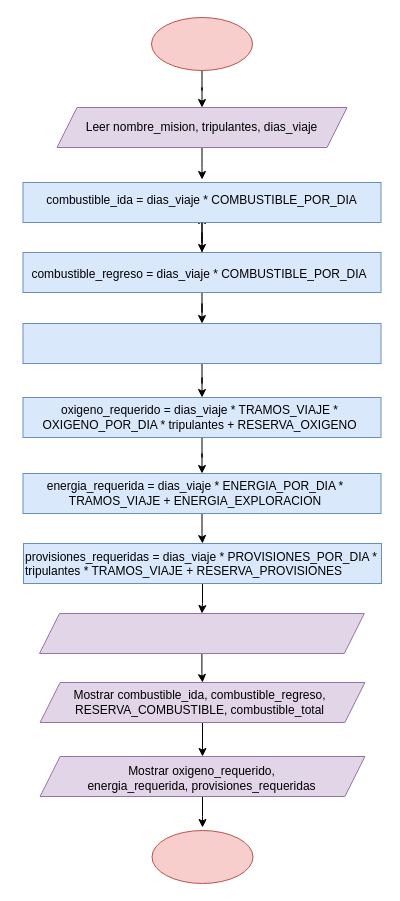
This 400x901 diagram has some shape labels left out. Each missing label, with the centre of its shape:
combustible_total = combustible_ida + combustible_regreso + RESERVA_COMBUSTIBLE: pixel 201 343
Fin: pixel 202 857
Inicio: pixel 201 43
Mostrar nombre_mision, tripulantes, dias_viaje: pixel 201 633
